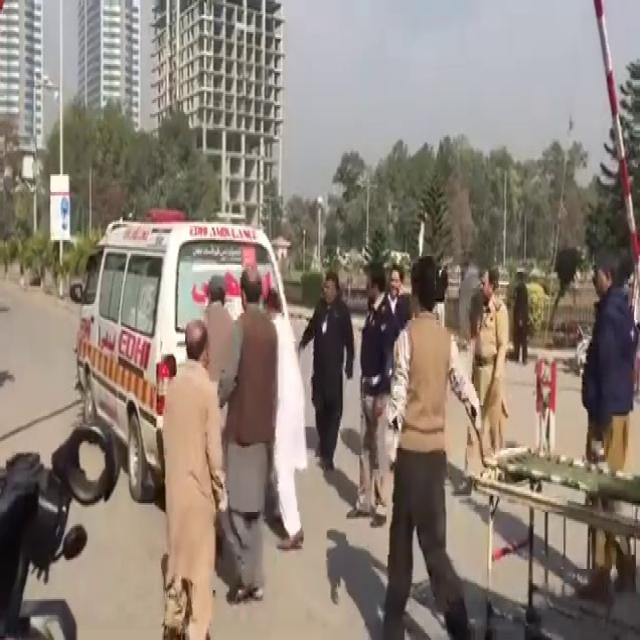ambulance: (83, 212, 285, 475)
